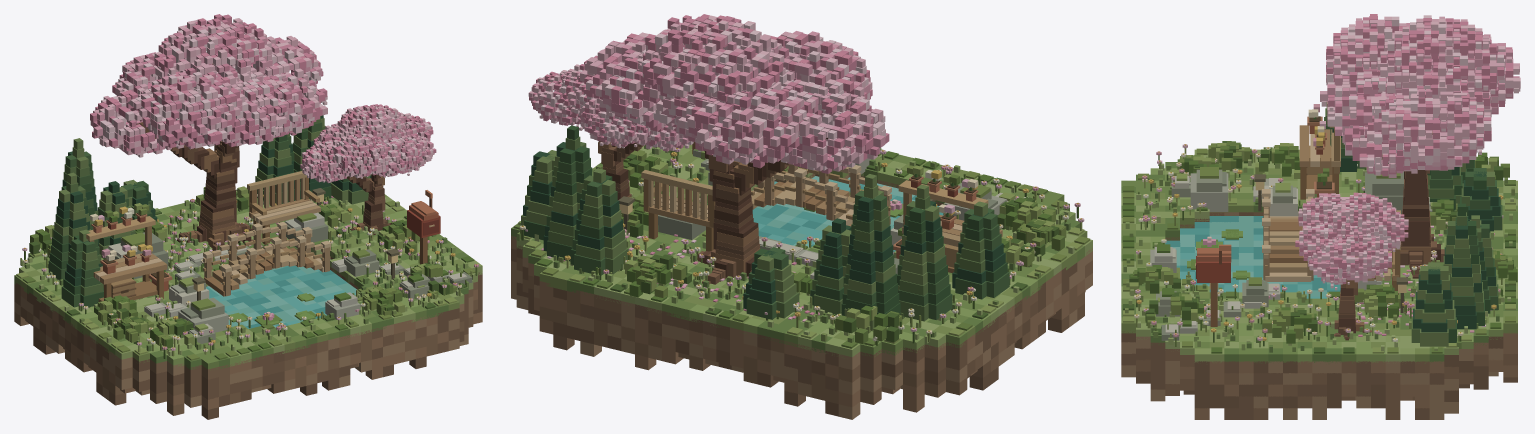
File: garden.glb
The picture shows the model from 3 angles, left to right: view 1: azimuth 30°, elevation 25°; view 2: azimuth 150°, elevation 25°; view 3: azimuth 270°, elevation 25°; orthographic projection. The views are drawn at different scales.
Visible parts, largest first — view 1: Story_cherry_blossoms, Island_earth, Island_grass, Cypress_foliage, Small_cherry_blossoms, Garden_shrubs, Pond_water, Mossy_stones, Story_cherry_trunk, Story_bench, Meadow_tufts, Projects_workbench (+14 smaller); view 2: Story_cherry_blossoms, Cypress_foliage, Island_earth, Island_grass, Garden_shrubs, Small_cherry_blossoms, Story_cherry_trunk, Edge_moss, Story_bench, Meadow_tufts, Pond_water, Wildflowers (+12 smaller); view 3: Story_cherry_blossoms, Island_earth, Island_grass, Cypress_foliage, Garden_shrubs, Small_cherry_blossoms, Mossy_stones, Pond_water, Edge_moss, Wildflowers, Meadow_tufts, Bridge_deck (+14 smaller).
Part boxes in pixels (box(x1,y1,x2,y2)): Story_cherry_blossoms: box(90, 14, 327, 157); Island_earth: box(14, 249, 482, 419); Island_grass: box(14, 187, 482, 370); Cypress_foliage: box(48, 115, 371, 307); Small_cherry_blossoms: box(300, 104, 436, 183); Garden_shrubs: box(29, 186, 456, 348); Pond_water: box(206, 258, 356, 328); Mossy_stones: box(105, 212, 429, 343); Story_cherry_trunk: box(136, 63, 239, 241); Story_bench: box(247, 171, 320, 244); Meadow_tufts: box(25, 200, 468, 356); Projects_workbench: box(86, 216, 167, 301); Story_cherry_blossoms: box(580, 14, 889, 173); Cypress_foliage: box(521, 125, 1009, 330); Island_earth: box(511, 173, 1092, 419); Island_grass: box(511, 144, 1092, 358); Garden_shrubs: box(619, 150, 1066, 344); Small_cherry_blossoms: box(528, 60, 693, 151); Story_cherry_trunk: box(704, 137, 828, 275); Edge_moss: box(513, 149, 1090, 348); Story_bench: box(641, 170, 715, 251); Meadow_tufts: box(518, 145, 1074, 342); Pond_water: box(752, 176, 943, 251); Wildflowers: box(519, 148, 1084, 341); Story_cherry_blossoms: box(1320, 14, 1520, 177); Island_earth: box(1121, 212, 1517, 419); Island_grass: box(1121, 149, 1517, 363); Cypress_foliage: box(1324, 102, 1502, 346); Garden_shrubs: box(1129, 141, 1517, 343); Small_cherry_blossoms: box(1295, 192, 1408, 290); Mossy_stones: box(1150, 169, 1432, 316); Pond_water: box(1165, 216, 1340, 298); Edge_moss: box(1123, 148, 1515, 353); Wildflowers: box(1134, 144, 1503, 341); Meadow_tufts: box(1123, 156, 1514, 352); Bridge_deck: box(1265, 216, 1311, 281).
Size of the model in its own units: 11.1 by 7.26 by 8.7.
